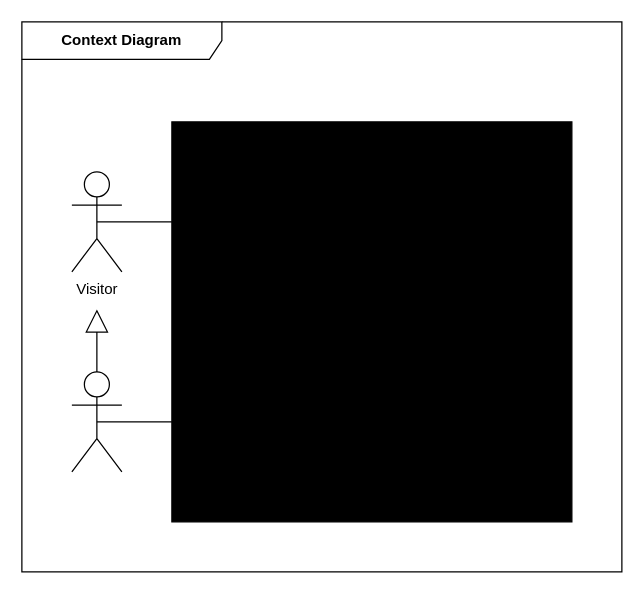
The diagram is 644 pixels wide and 594 high, and some of its shapes have lost their labels. Each missing label, with the centre of its shape:
Contributor: (x=96, y=421)
SYSTEM: (x=371, y=321)
